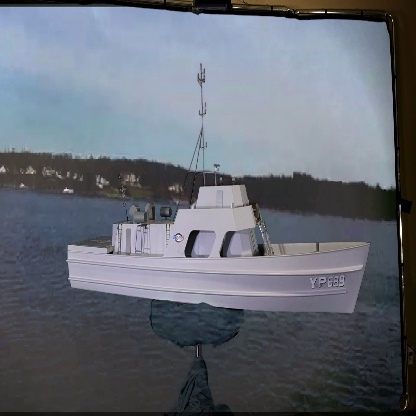YP689: (68, 63, 370, 318)
